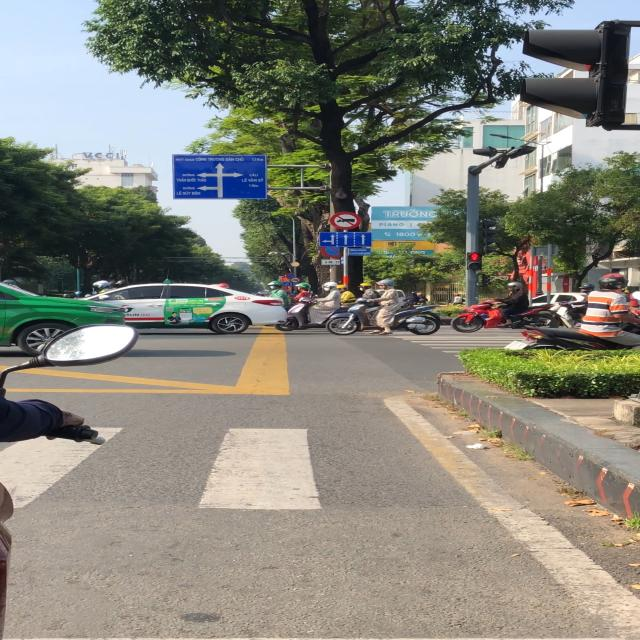Bien bao cam xe so-mi ro-mooc: (328, 210, 363, 231)
